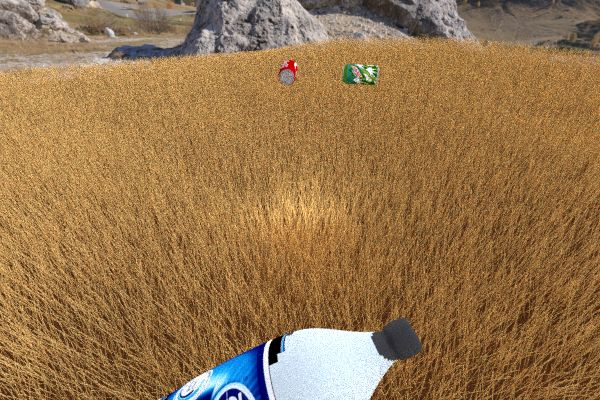Plastic Bottle: (21, 317, 422, 400), (341, 64, 379, 85), (278, 59, 297, 85)
